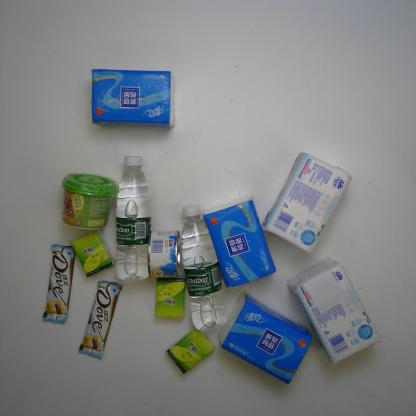Canned Food: (147, 229, 182, 281)
Chocolate: (78, 278, 122, 362), (41, 242, 76, 324)
Drink: (180, 203, 228, 333), (115, 155, 153, 283)
Instant Drink: (61, 173, 120, 231)
Tissue: (286, 256, 383, 367), (260, 151, 354, 257), (218, 289, 314, 385), (202, 195, 278, 291), (88, 67, 176, 130), (165, 324, 217, 376), (70, 228, 116, 280), (154, 275, 187, 321)
